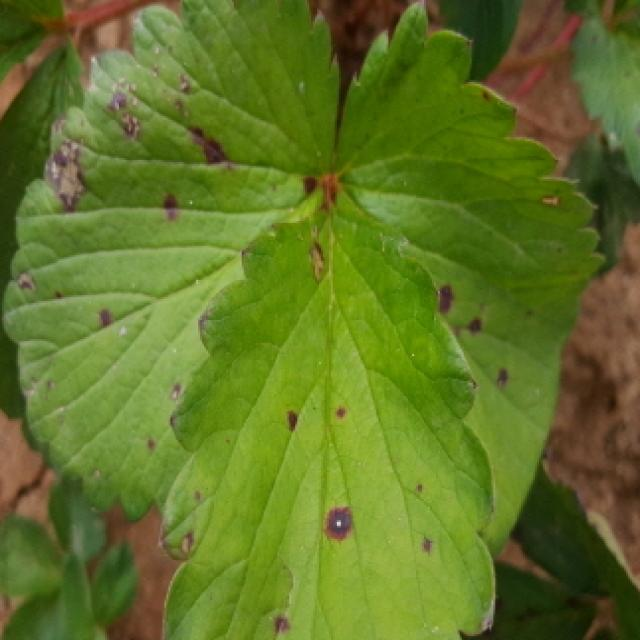Leaf Spot: (1, 0, 343, 526), (154, 176, 497, 640), (332, 0, 609, 556), (570, 14, 640, 190)
